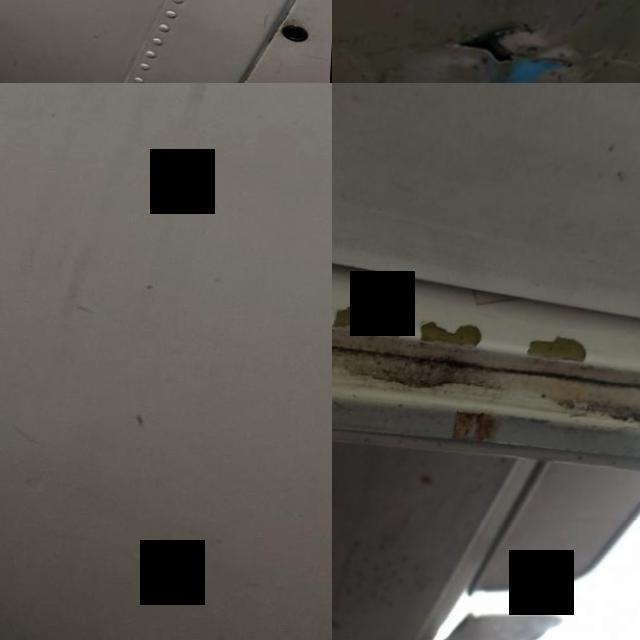Crack: (332, 281, 640, 422), (493, 15, 550, 54)
Dent: (340, 10, 624, 83)
